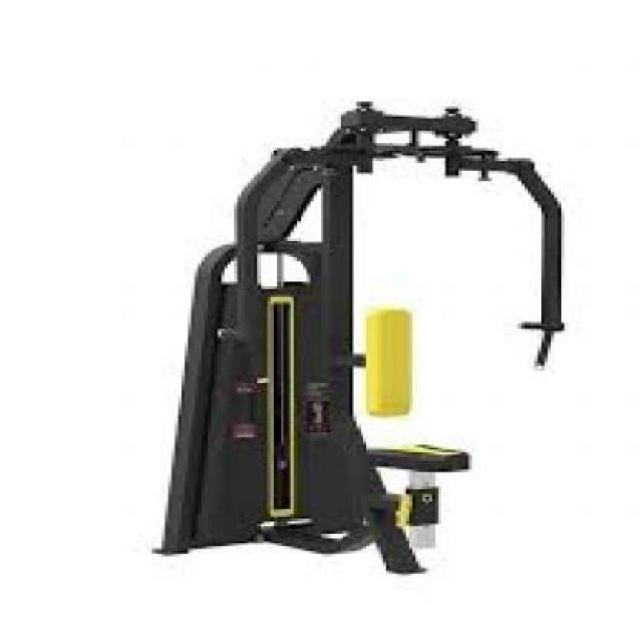chest fly machine: (137, 89, 583, 586)
